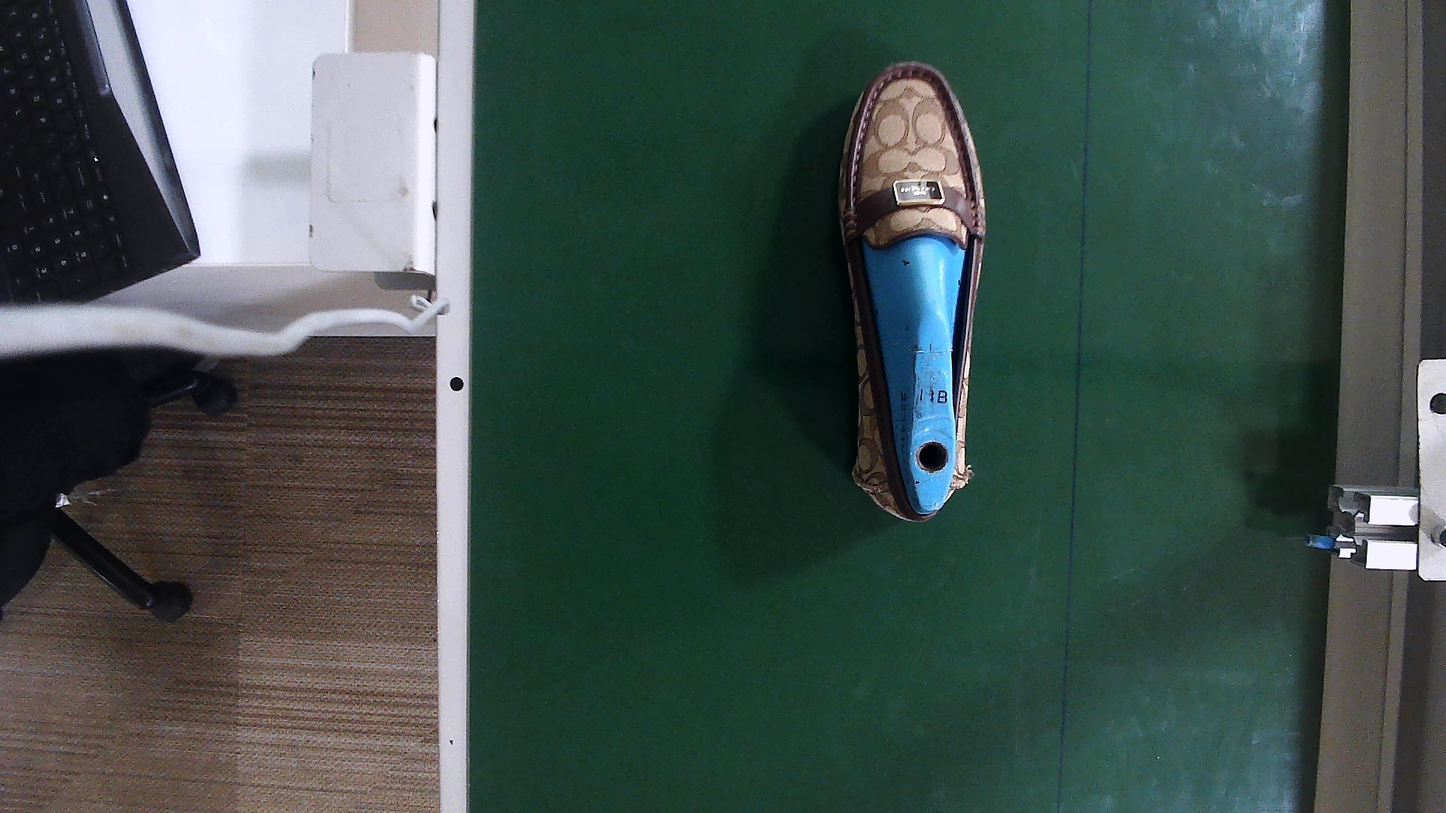shoe: (844, 64, 984, 520)
